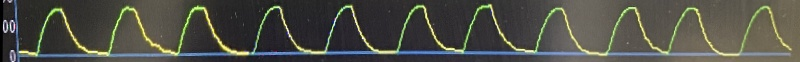normal_volume: (19, 0, 800, 62)
